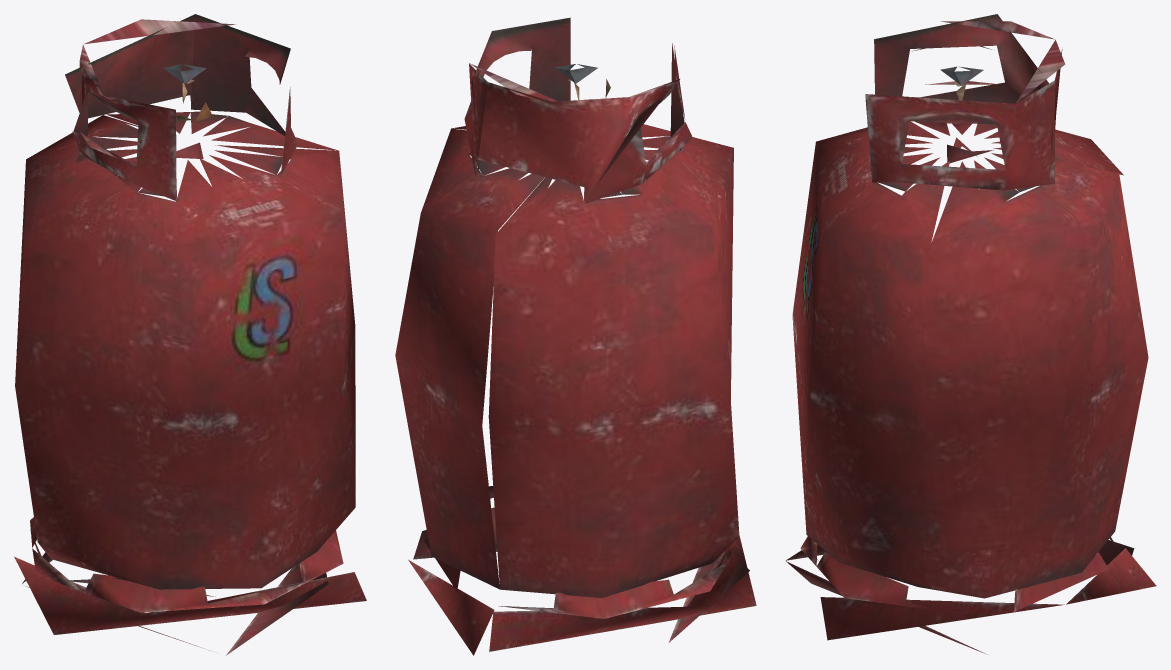
File: propane_tank.glb
The picture shows the model from 3 angles, left to right: view 1: azimuth 30°, elevation 25°; view 2: azimuth 150°, elevation 25°; view 3: azimuth 270°, elevation 25°; orthographic projection.
Parts seen in each view (by area): view 1: propane_tank; view 2: propane_tank; view 3: propane_tank.
Part boxes in pixels (x1=…): propane_tank: x1=14, y1=14, x2=366, y2=655; propane_tank: x1=395, y1=17, x2=756, y2=655; propane_tank: x1=786, y1=14, x2=1156, y2=654.
Bounding box in the file's own units: 0.3478 × 0.5542 × 0.3563.
1 material, 1 textured.
